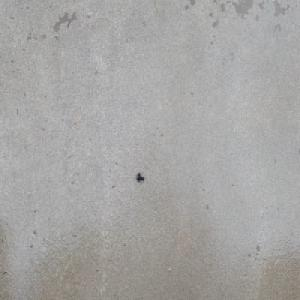BoltWasher: (136, 172, 144, 182)
